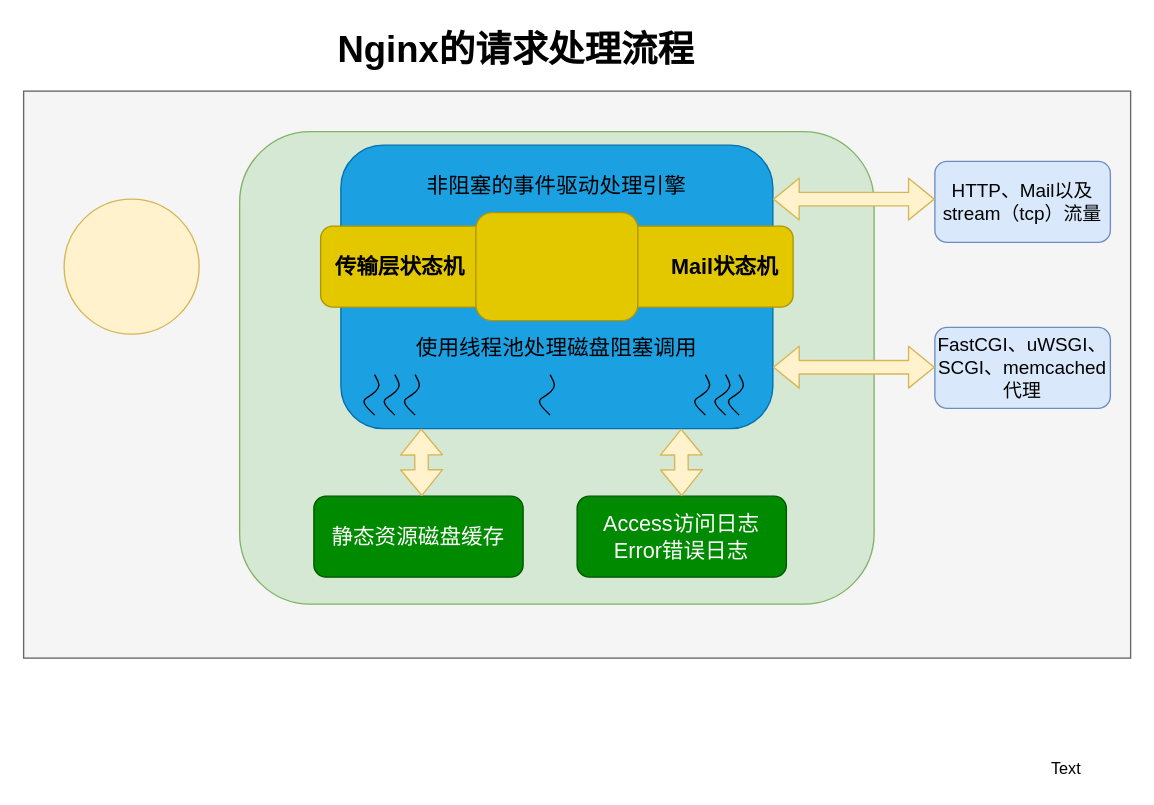
This 1154x805 diagram has some shape labels left out. Here are the shapes that lost their labels. From the top down, the centre of each, then its label:
At point 131,266: "WEB、Email以及TCP流量".
At point 556,266: "HTTP状态机".
